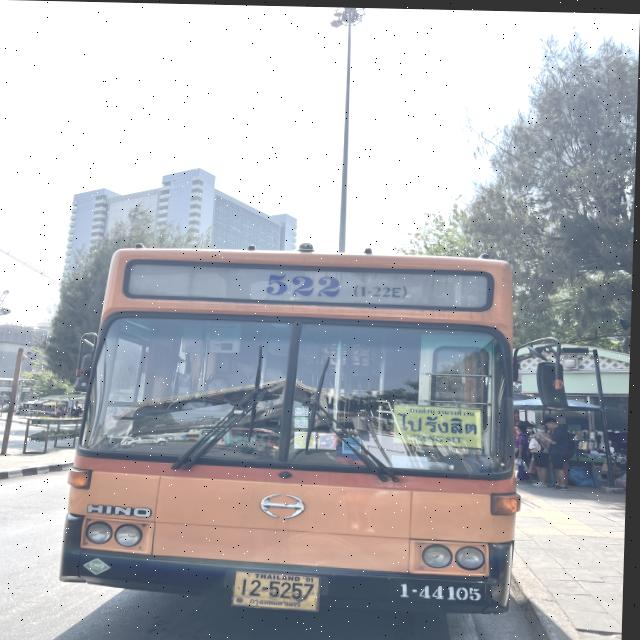BMTA-bus: (62, 246, 530, 618)
Bus-Line-Number: (251, 270, 417, 301)
Destination-Sign-Normal-Expressway: (393, 402, 487, 447)
